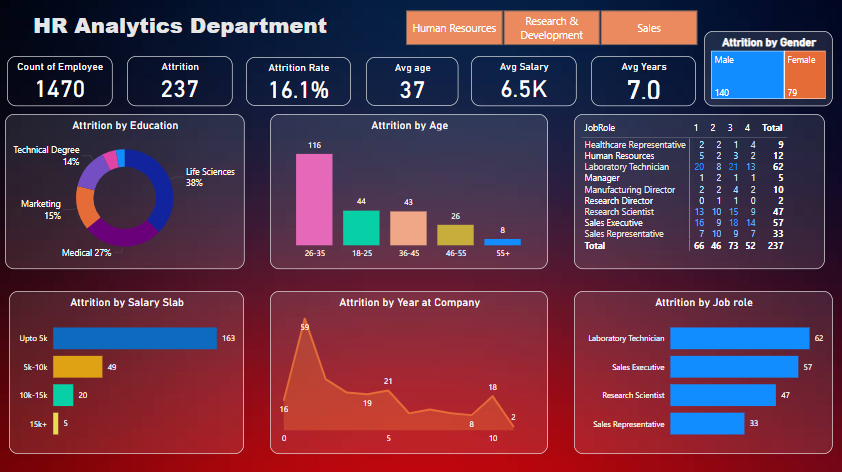

The page's visual inventory and layout, read from the dashboard file:
{"tool":"powerbi","page":{"name":"Page 1","canvas":[1280,720],"ordinal":0},"visuals":[{"type":"card","title":"Count of Employee","fields":{"Values":["CountNonNull(HR_Analytics.EmpID)"]},"box":[11.6,87.5,159.6,75.6],"z":0},{"type":"card","title":"Attrition Rate","fields":{"Values":["HR_Analytics.AttritionRate"]},"box":[374.8,89.8,158.9,74.3],"z":1000},{"type":"card","title":"Avg age","fields":{"Values":["Avg(HR_Analytics.Age)"]},"box":[556.2,89.8,139.9,74.3],"z":2000},{"type":"card","title":"Attrition","fields":{"Values":["Sum(HR_Analytics.AttritionCount)"]},"box":[194.7,87.5,159.6,75.6],"z":3000},{"type":"card","title":"Avg Salary","fields":{"Values":["Avg(HR_Analytics.MonthlyIncome)"]},"box":[715.4,87.5,159.6,75.6],"z":4000},{"type":"card","title":"Avg Years","fields":{"Values":["Avg(HR_Analytics.YearsAtCompany)"]},"box":[897,87.9,159.1,75.8],"z":5000},{"type":"donutChart","title":"Attrition by Education","fields":{"Category":["HR_Analytics.EducationField"],"Y":["Sum(HR_Analytics.AttritionCount)"]},"box":[8.6,176.2,362.8,234.9],"z":6000},{"type":"columnChart","title":"Attrition by Age","fields":{"Category":["HR_Analytics.AgeGroup"],"Y":["Sum(HR_Analytics.AttritionCount)"]},"box":[411.1,176.2,421.5,234.9],"z":7000},{"type":"pivotTable","fields":{"Rows":["HR_Analytics.JobRole"],"Columns":["HR_Analytics.JobSatisfaction"],"Values":["Sum(HR_Analytics.AttritionCount)"]},"box":[870.6,176.2,380,234.9],"z":8000},{"type":"barChart","title":"Attrition by Salary Slab","fields":{"Category":["HR_Analytics.SalarySlab"],"Y":["Sum(HR_Analytics.AttritionCount)"]},"box":[15.5,443.9,355.8,247],"z":9000},{"type":"barChart","title":"Attrition by Job role","fields":{"Category":["HR_Analytics.JobRole"],"Y":["Sum(HR_Analytics.AttritionCount)"]},"box":[870.6,443.9,392.1,247],"z":10000},{"type":"areaChart","title":"Attrition by Year at Company","fields":{"Category":["HR_Analytics.YearsAtCompany"],"Y":["Sum(HR_Analytics.AttritionCount)"]},"box":[411.1,443.9,421.5,247],"z":11000},{"type":"treemap","title":"Attrition by Gender","fields":{"Group":["HR_Analytics.Gender"],"Values":["Sum(HR_Analytics.AttritionCount)"]},"box":[1067.5,50.1,195.2,114],"z":12000},{"type":"slicer","fields":{"Values":["HR_Analytics.Department"]},"box":[590.8,12.1,490.6,65.6],"z":13000},{"type":"textbox","box":[46.6,13.8,487.1,63.9],"z":14000}]}

Visuals, with their boxes in screenshot pixels (x1, y1, x2, y2), scaled from the page's 1280x720 canvas onto the 842x472 screenshot:
"Count of Employee" card: <bbox>8, 57, 113, 107</bbox>
"Attrition Rate" card: <bbox>247, 59, 351, 108</bbox>
"Avg age" card: <bbox>366, 59, 458, 108</bbox>
"Attrition" card: <bbox>128, 57, 233, 107</bbox>
"Avg Salary" card: <bbox>471, 57, 576, 107</bbox>
"Avg Years" card: <bbox>590, 58, 695, 107</bbox>
"Attrition by Education" donutChart: <bbox>6, 116, 244, 269</bbox>
"Attrition by Age" columnChart: <bbox>270, 116, 548, 269</bbox>
pivotTable - HR_Analytics.JobRole x HR_Analytics.JobSatisfaction: <bbox>573, 116, 823, 269</bbox>
"Attrition by Salary Slab" barChart: <bbox>10, 291, 244, 453</bbox>
"Attrition by Job role" barChart: <bbox>573, 291, 831, 453</bbox>
"Attrition by Year at Company" areaChart: <bbox>270, 291, 548, 453</bbox>
"Attrition by Gender" treemap: <bbox>702, 33, 831, 108</bbox>
slicer - HR_Analytics.Department: <bbox>389, 8, 711, 51</bbox>
textbox: <bbox>31, 9, 351, 51</bbox>
